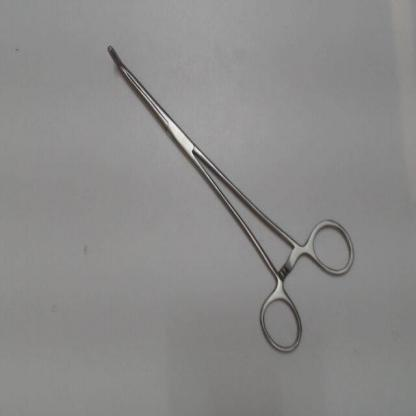Lahey Forceps: (100, 33, 361, 360)
